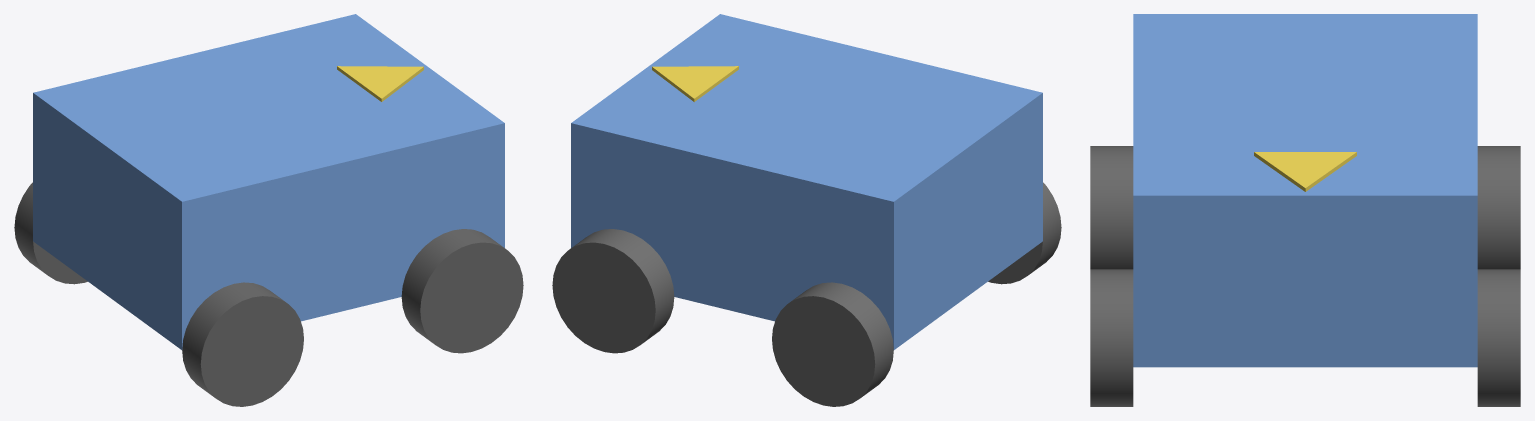
Rendered from mobile_base.glb.
The picture shows the model from 3 angles, left to right: view 1: azimuth 30°, elevation 25°; view 2: azimuth 150°, elevation 25°; view 3: azimuth 270°, elevation 25°; orthographic projection. The views are drawn at different scales.
Visible parts, largest first — view 1: mobile_base; view 2: mobile_base; view 3: mobile_base.
Part boxes in pixels (x1,y1,x2,y2): mobile_base: (14,14,523,406); mobile_base: (552,14,1061,406); mobile_base: (1090,14,1520,406).
Size of the model in its own units: 0.5 by 0.305 by 0.5.
